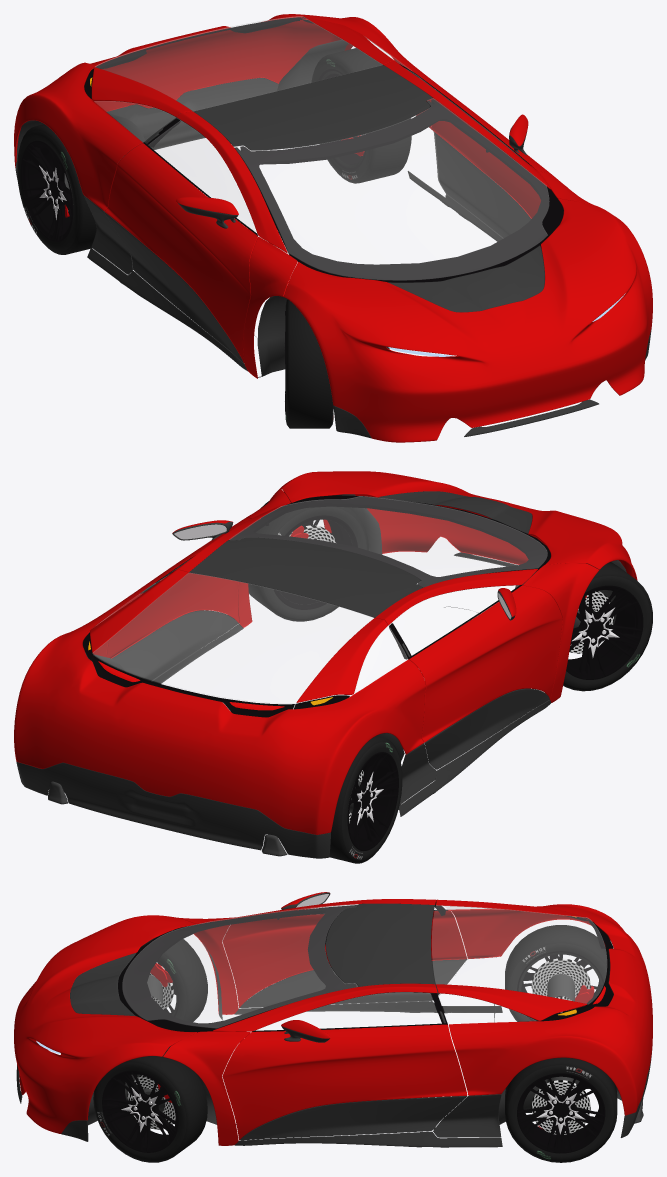
Rendered from apex_car.glb.
3 renders of one model, top to bottom at view 1: azimuth 30°, elevation 25°; view 2: azimuth 150°, elevation 25°; view 3: azimuth 270°, elevation 25°, orthographic. The views are drawn at different scales.
Parts seen in each view (by area): view 1: BodyHood, BodyWindshield, BodyRearPanelsColor1, BodyRearwindow, BodyDoorRColor1, BodyWindshieldGasket, BodyRoofPanel, BodyPanelsColor2, BodyPillars, BodyHoodTopgrill, WheelFrontR, BodyDoorLColor2 (+10 smaller); view 2: BodyRearPanelsColor1, BodyRearwindow, BodyWindshield, BodyPanelsColor2, BodyDoorRColor1, BodyHood, BodyRoofPanel, BodyPillars, BodyWindshieldGasket, WheelFrontRRim, BodyDoorLColor1, BodyDoorLColor2 (+11 smaller); view 3: BodyRearPanelsColor1, BodyWindshield, BodyDoorLColor1, BodyHood, BodyRearwindow, BodyPillars, BodyRoofPanel, BodyPanelsColor2, BodyDoorRColor1, BodyWindshieldGasket, BodyDoorLColor2, WheelFrontL (+17 smaller).
Boxes of the visible parts, left/top/right/bottom form: BodyHood: left=283, top=198, right=652, bottom=442; BodyWindshield: left=234, top=98, right=549, bottom=280; BodyRearPanelsColor1: left=14, top=14, right=434, bottom=210; BodyRearwindow: left=95, top=16, right=382, bottom=110; BodyDoorRColor1: left=104, top=143, right=257, bottom=362; BodyWindshieldGasket: left=234, top=99, right=563, bottom=282; BodyRoofPanel: left=193, top=65, right=432, bottom=150; BodyPanelsColor2: left=15, top=77, right=651, bottom=438; BodyPillars: left=176, top=61, right=598, bottom=378; BodyHoodTopgrill: left=388, top=245, right=544, bottom=312; WheelFrontR: left=285, top=299, right=333, bottom=428; BodyDoorLColor2: left=434, top=132, right=530, bottom=238; BodyRearPanelsColor1: left=14, top=569, right=425, bottom=834; BodyRearwindow: left=92, top=573, right=373, bottom=703; BodyWindshield: left=229, top=496, right=547, bottom=587; BodyPanelsColor2: left=16, top=552, right=550, bottom=858; BodyDoorRColor1: left=409, top=585, right=562, bottom=742; BodyHood: left=279, top=471, right=637, bottom=580; BodyRoofPanel: left=189, top=537, right=422, bottom=617; BodyPillars: left=175, top=489, right=599, bottom=702; BodyWindshieldGasket: left=230, top=495, right=550, bottom=587; WheelFrontRRim: left=566, top=585, right=643, bottom=679; BodyDoorLColor1: left=106, top=517, right=250, bottom=658; BodyDoorLColor2: left=112, top=610, right=238, bottom=681; BodyRearPanelsColor1: left=436, top=899, right=652, bottom=1115; BodyWindshield: left=122, top=904, right=357, bottom=1028; BodyDoorLColor1: left=222, top=1024, right=467, bottom=1139; BodyHood: left=14, top=915, right=196, bottom=1133; BodyRearwindow: left=432, top=905, right=606, bottom=1003; BodyPillars: left=163, top=899, right=437, bottom=1145; BodyRoofPanel: left=326, top=903, right=434, bottom=986; BodyPanelsColor2: left=16, top=957, right=652, bottom=1147; BodyDoorRColor1: left=222, top=909, right=467, bottom=1007; BodyWindshieldGasket: left=118, top=905, right=357, bottom=1032; BodyDoorLColor2: left=240, top=1096, right=467, bottom=1140; WheelFrontL: left=93, top=1050, right=207, bottom=1162.
Bounding box in the file's own units: 2.54 × 1.15 × 4.36.
Materials: 15 (4 with a texture image).
